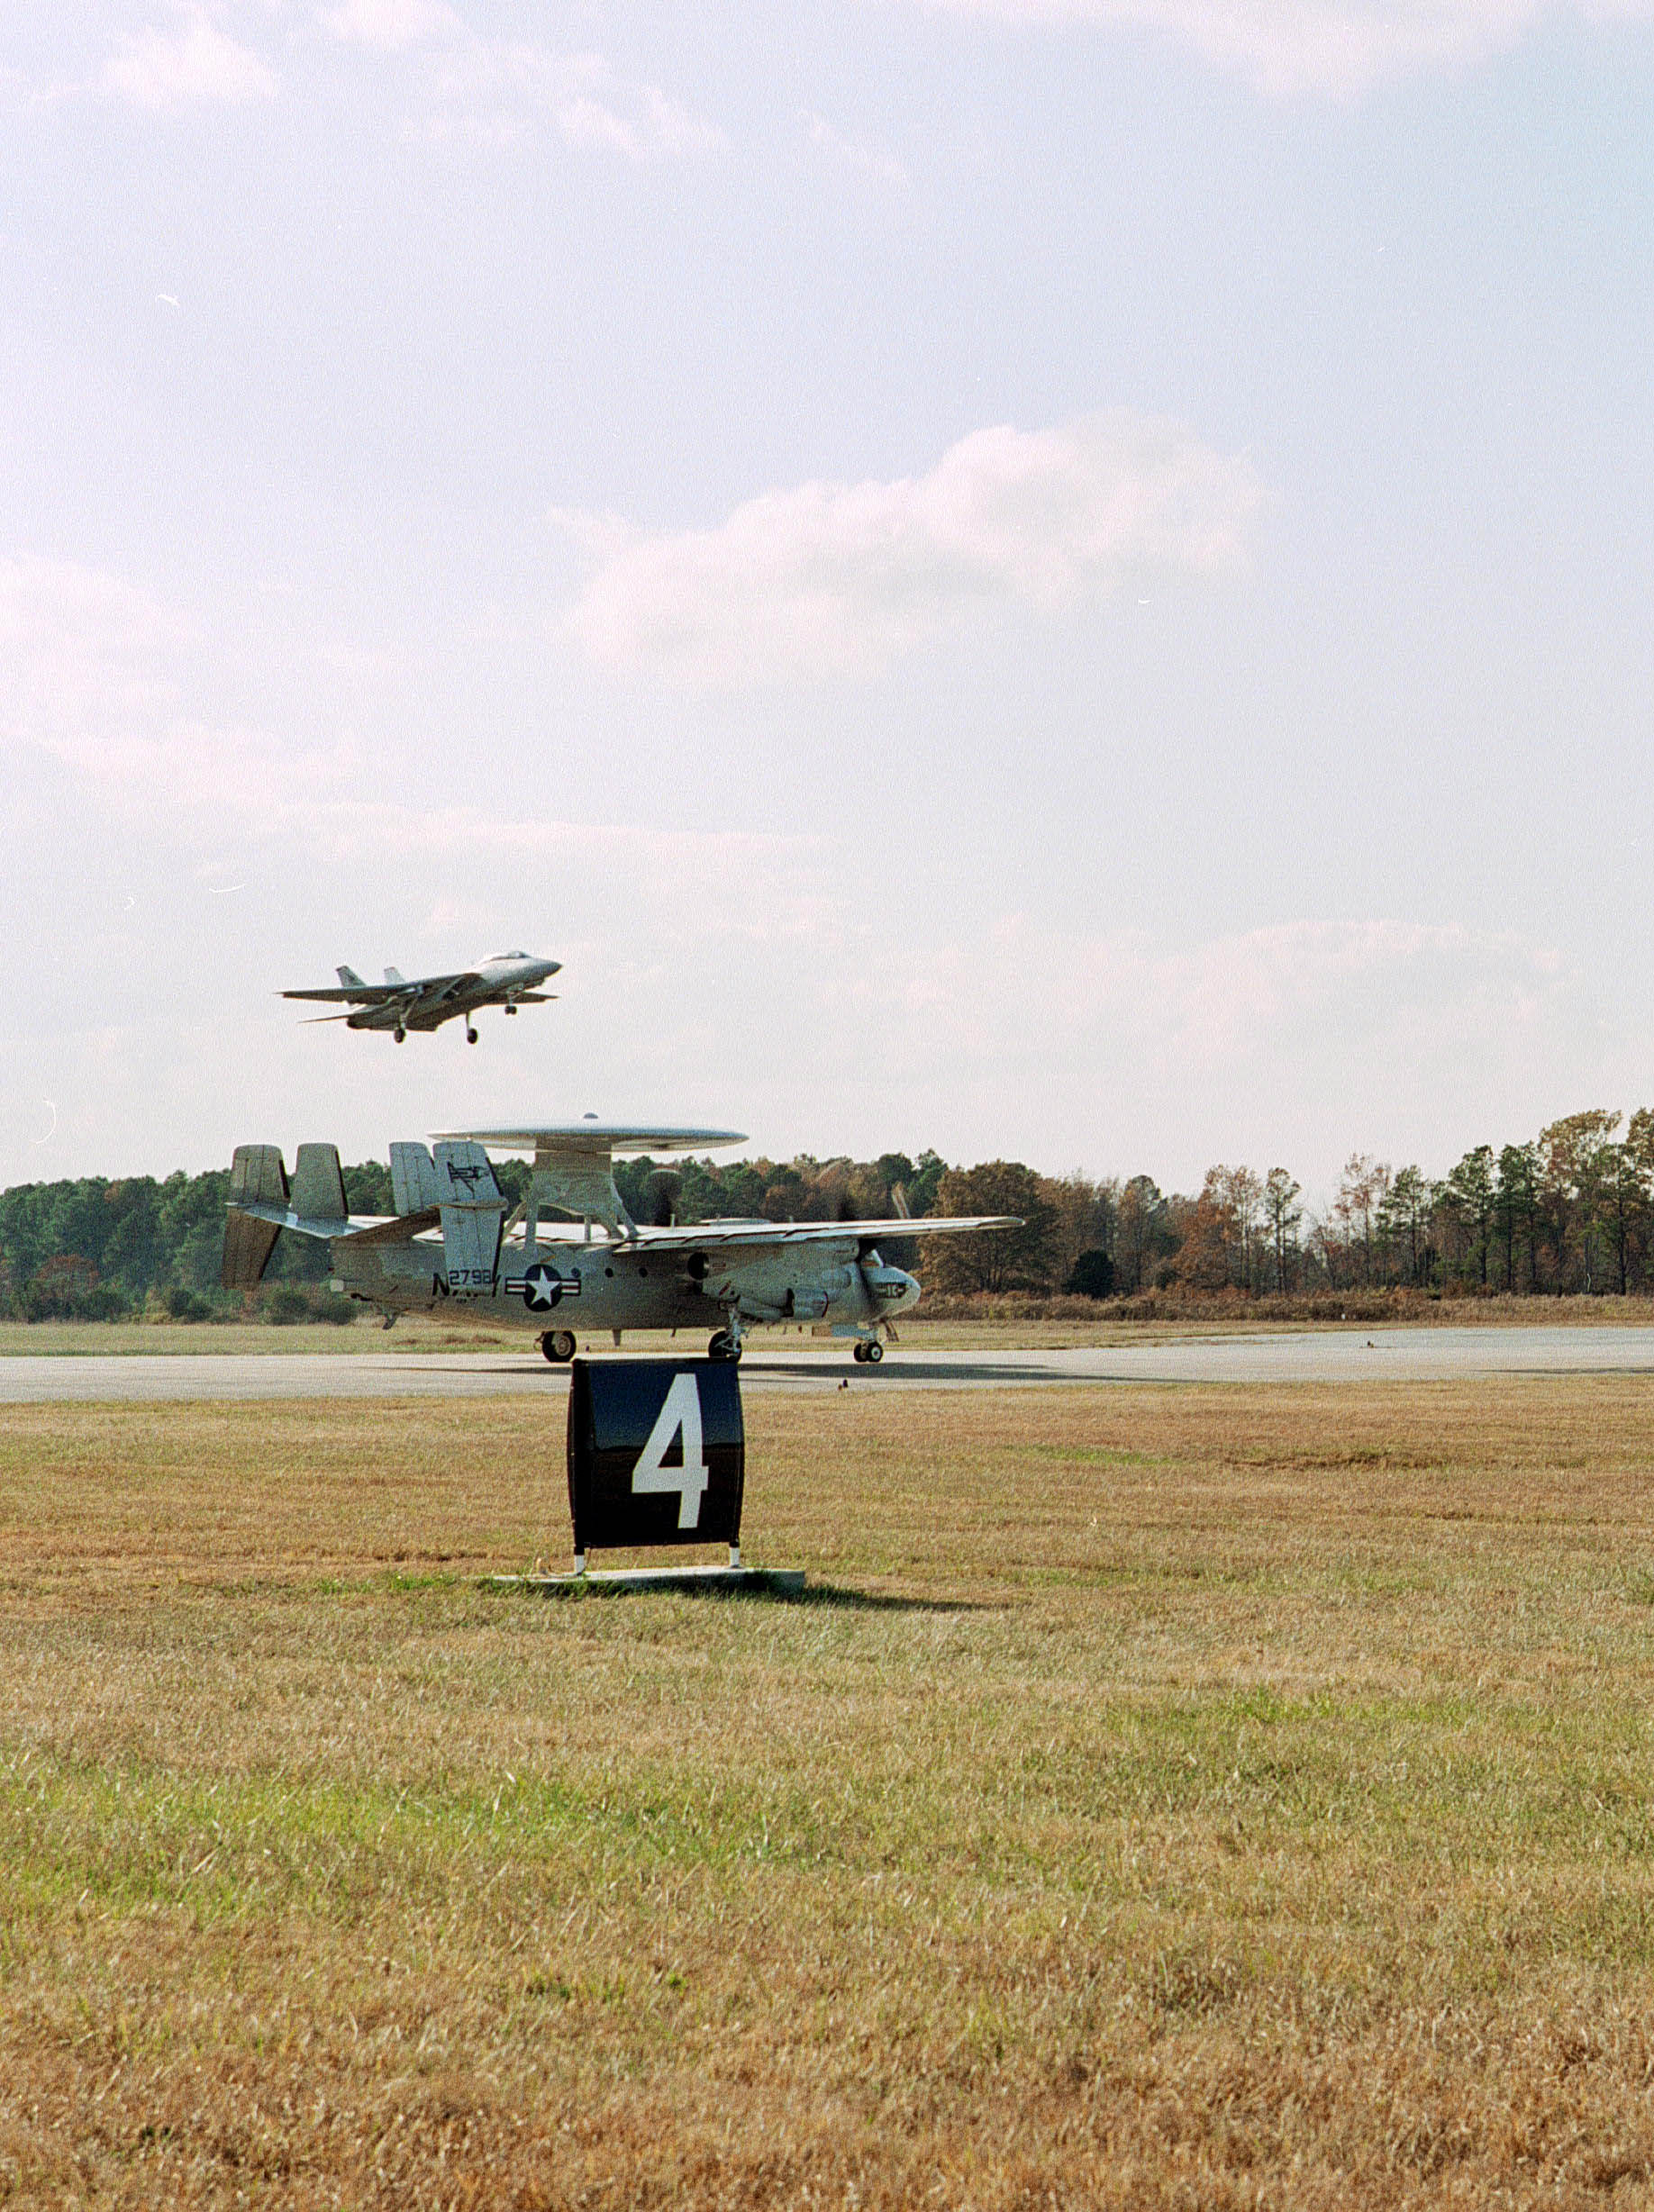E2: (221, 1111, 1027, 1363)
F14: (269, 950, 566, 1043)
